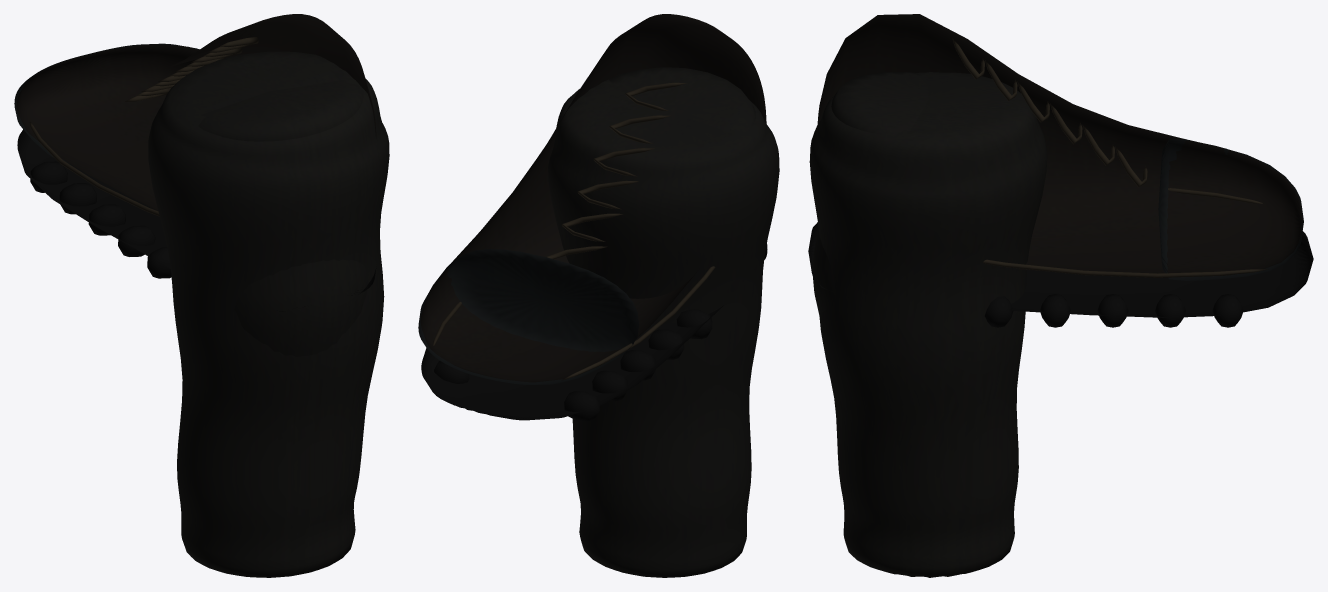
File: warden-kick.glb
3 views of the same model, side by side, from view 1: azimuth 30°, elevation 25°; view 2: azimuth 150°, elevation 25°; view 3: azimuth 270°, elevation 25° (orthographic). The views are drawn at different scales.
Parts seen in each view (by area): view 1: Folded trouser kick_thigh, Stitched combat boot upper, Folded trouser kick_shin, kick_boot Boot lug rubber, kick_boot Dark waxed stitching, Forged toe shell; view 2: Folded trouser kick_thigh, Stitched combat boot upper, Forged toe shell, kick_boot Boot lug rubber, Folded trouser kick_shin, kick_boot Dark waxed stitching; view 3: Folded trouser kick_thigh, Stitched combat boot upper, kick_boot Boot lug rubber, Folded trouser kick_shin, kick_boot Dark waxed stitching, Forged toe shell.
Boxes of the visible parts, x1=… form: Folded trouser kick_thigh: x1=148, y1=51, x2=389, y2=577; Stitched combat boot upper: x1=16, y1=14, x2=376, y2=210; Folded trouser kick_shin: x1=198, y1=80, x2=368, y2=442; kick_boot Boot lug rubber: x1=17, y1=129, x2=376, y2=311; kick_boot Dark waxed stitching: x1=29, y1=37, x2=258, y2=216; Forged toe shell: x1=14, y1=43, x2=199, y2=165; Folded trouser kick_thigh: x1=548, y1=74, x2=779, y2=577; Stitched combat boot upper: x1=420, y1=14, x2=766, y2=382; Forged toe shell: x1=418, y1=249, x2=639, y2=384; kick_boot Boot lug rubber: x1=421, y1=244, x2=767, y2=421; Folded trouser kick_shin: x1=608, y1=67, x2=755, y2=131; kick_boot Dark waxed stitching: x1=433, y1=82, x2=715, y2=380; Folded trouser kick_thigh: x1=809, y1=72, x2=1047, y2=577; Stitched combat boot upper: x1=817, y1=14, x2=1302, y2=275; kick_boot Boot lug rubber: x1=808, y1=222, x2=1313, y2=327; Folded trouser kick_shin: x1=812, y1=72, x2=928, y2=315; kick_boot Dark waxed stitching: x1=952, y1=38, x2=1268, y2=277; Forged toe shell: x1=1158, y1=139, x2=1303, y2=280.
Size of the model in its own units: 0.1896 by 0.4666 by 0.4041.
5 materials, 5 textured.
